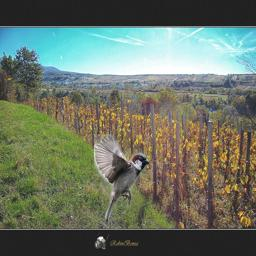Sparrow: (94, 134, 149, 223)
